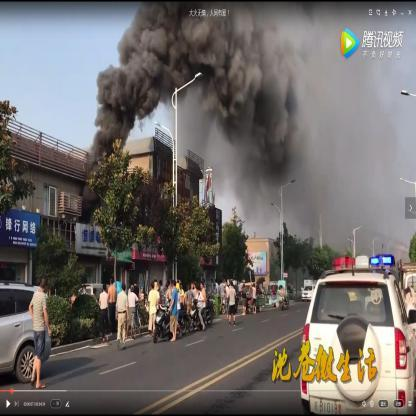smoke: (119, 2, 299, 64), (208, 69, 304, 151), (96, 65, 150, 131), (150, 66, 190, 106), (256, 150, 298, 188), (86, 132, 124, 165), (81, 170, 104, 208)
